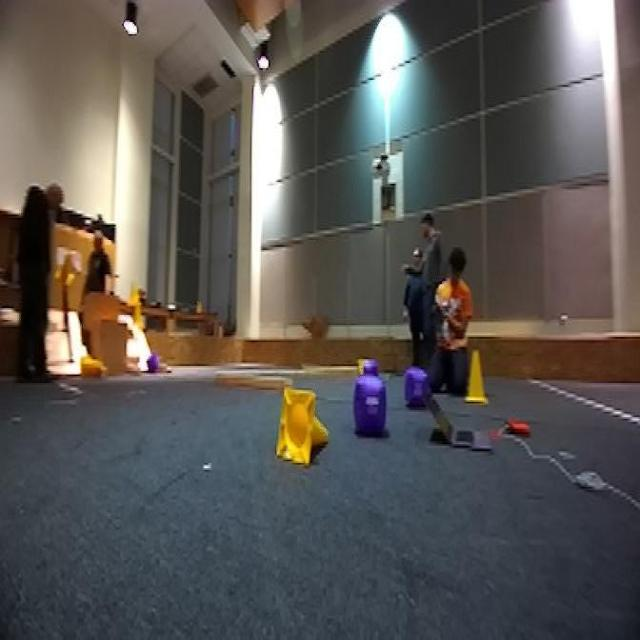frc_cone: (277, 388, 337, 470), (463, 349, 490, 405), (77, 352, 98, 380)
frc_cube: (352, 374, 388, 436), (403, 366, 430, 407), (144, 354, 163, 375), (361, 357, 378, 378)
